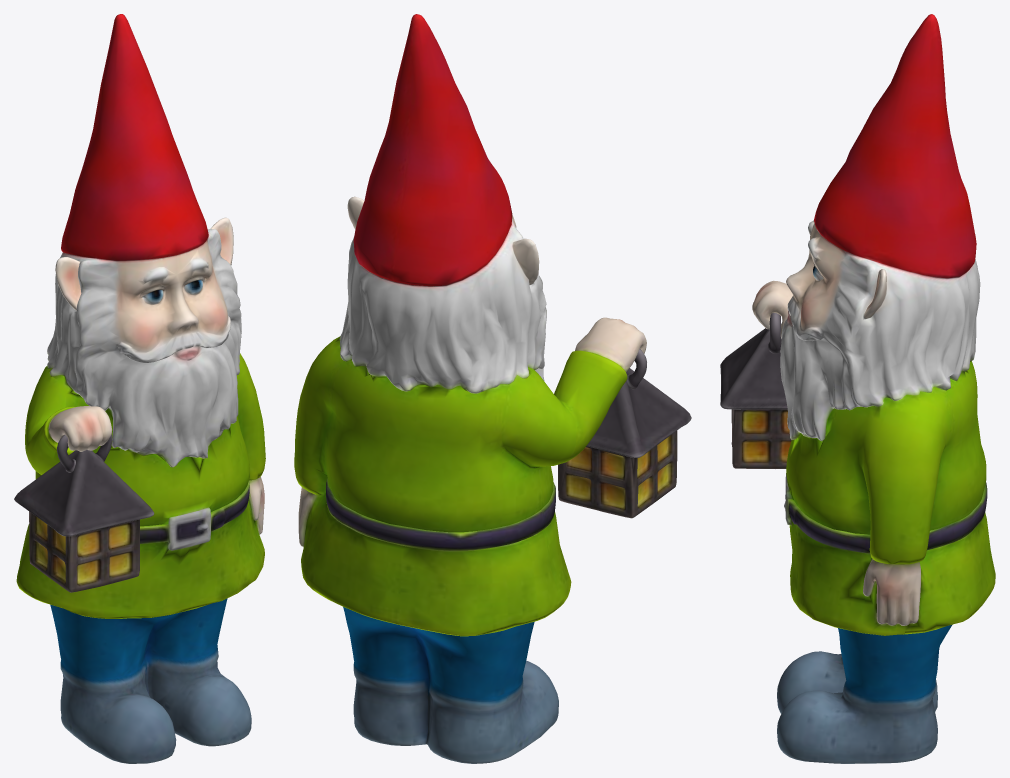
File: polyhaven-garden-gnome.glb
3 views of the same model, side by side, from view 1: azimuth 30°, elevation 25°; view 2: azimuth 150°, elevation 25°; view 3: azimuth 270°, elevation 25° (orthographic). The views are drawn at different scales.
Visible parts, largest first — view 1: garden_gnome; view 2: garden_gnome; view 3: garden_gnome.
Part boxes in pixels (x1,y1,x2,y2): garden_gnome: [14, 14, 265, 763]; garden_gnome: [294, 14, 691, 763]; garden_gnome: [720, 14, 995, 763].
Size of the model in its own units: 0.2578 by 0.5991 by 0.2097.
Materials: 1 (1 with a texture image).
